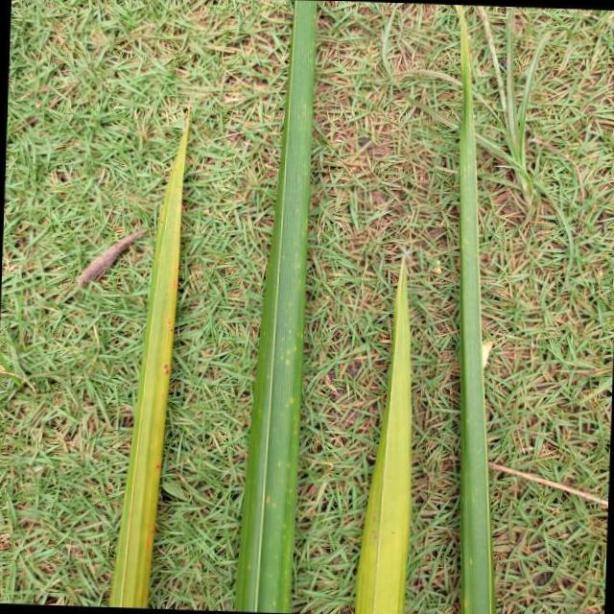nitrogen: (237, 0, 323, 614), (105, 108, 192, 614), (456, 0, 494, 614), (357, 232, 411, 614)
